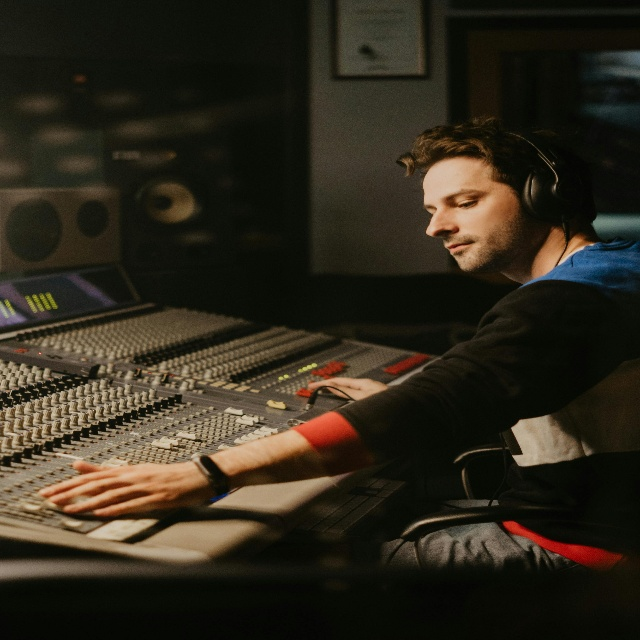Sin_guantes: (40, 460, 206, 519), (308, 376, 387, 400)
